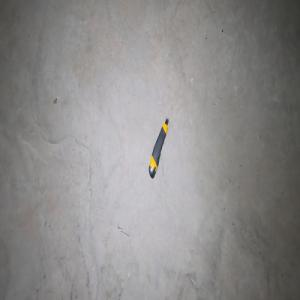Cutter: (148, 117, 169, 179)
